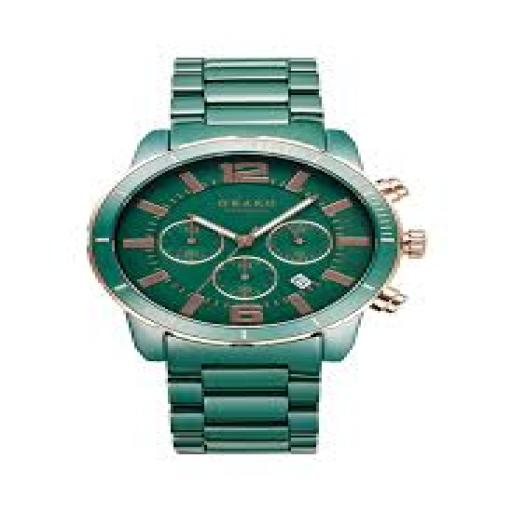KolSaati: (70, 39, 437, 479)
